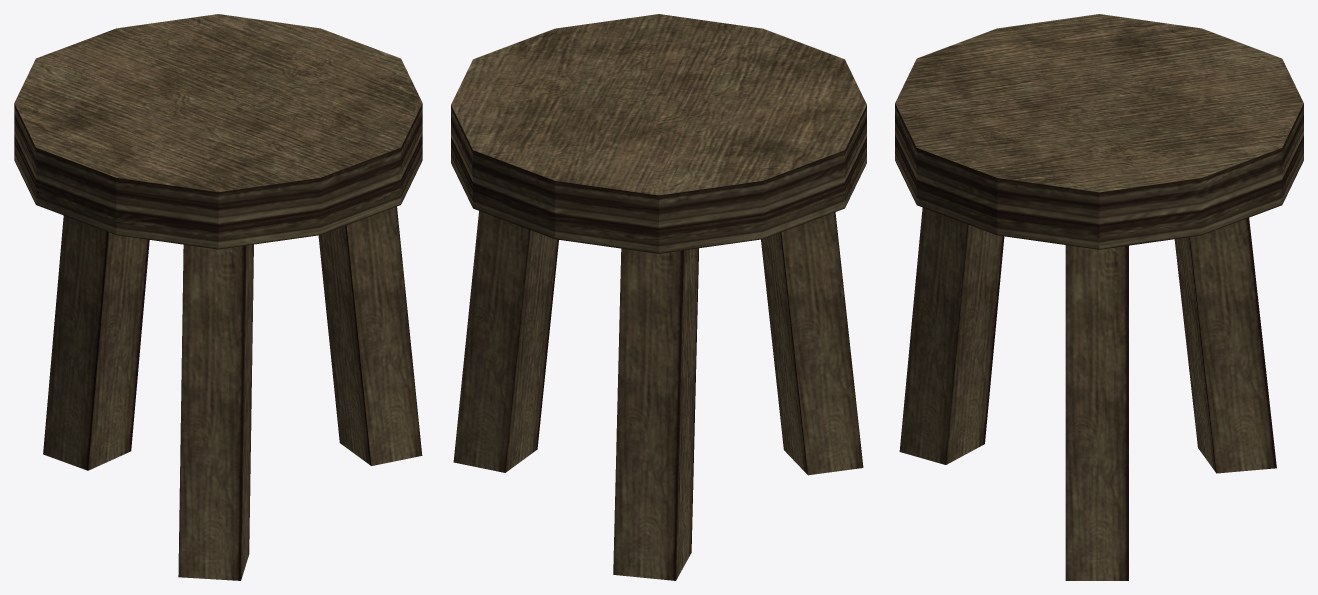
Rendered from CHAIR_BROWN_01_KOZA.glb.
3 views of the same model, side by side, from view 1: azimuth 30°, elevation 25°; view 2: azimuth 150°, elevation 25°; view 3: azimuth 270°, elevation 25° (orthographic).
Parts seen in each view (by area): view 1: CHAIR_BROWN_01_KOZA; view 2: CHAIR_BROWN_01_KOZA; view 3: CHAIR_BROWN_01_KOZA.
Part boxes in pixels (x1,y1,x2,y2): CHAIR_BROWN_01_KOZA: [14, 14, 422, 580]; CHAIR_BROWN_01_KOZA: [451, 14, 866, 580]; CHAIR_BROWN_01_KOZA: [895, 14, 1303, 580].
Bounding box in the file's own units: 0.5059 × 0.505 × 0.4842.
Materials: 2 (2 with a texture image).
